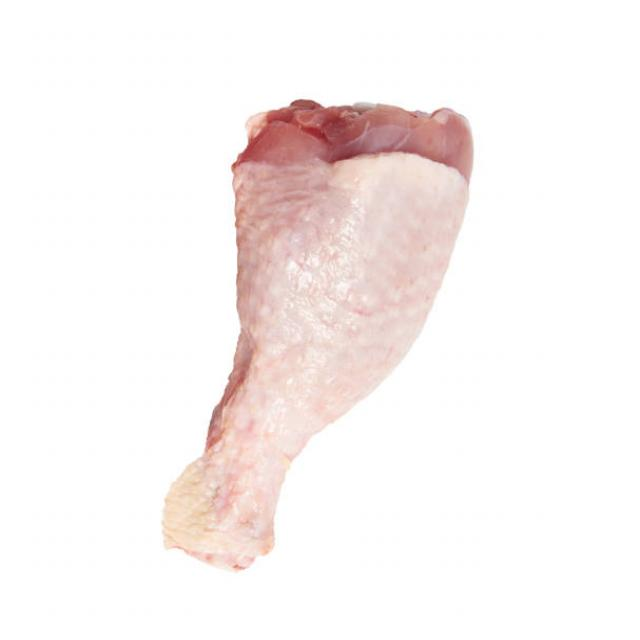chicken thigh: (156, 87, 481, 572)
